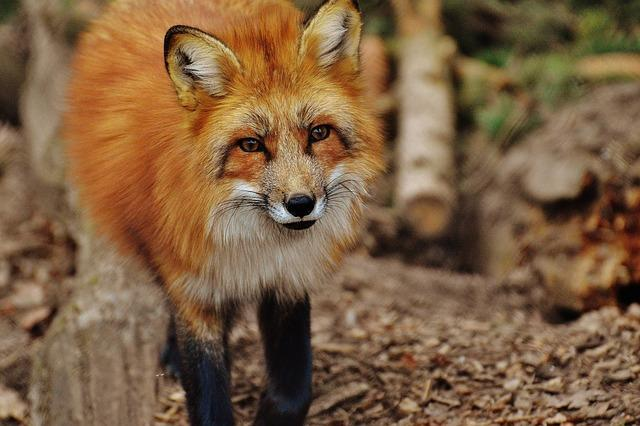Non_Gorille: (67, 1, 437, 406)
